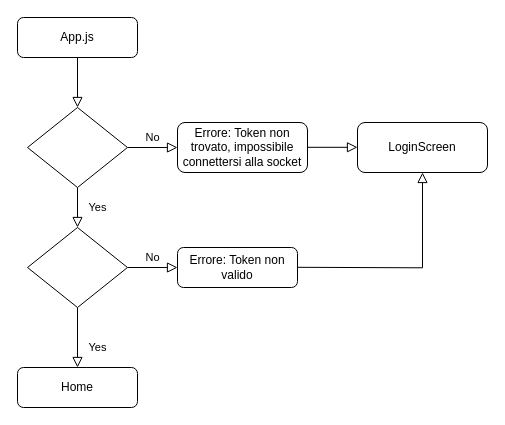
Image size: 505x425. Some labels were removed from this diagram. Each missing label, with the centre of its shape:
"getToken()" goes at pixel 77 147.
"isValid(token)" goes at pixel 77 267.
